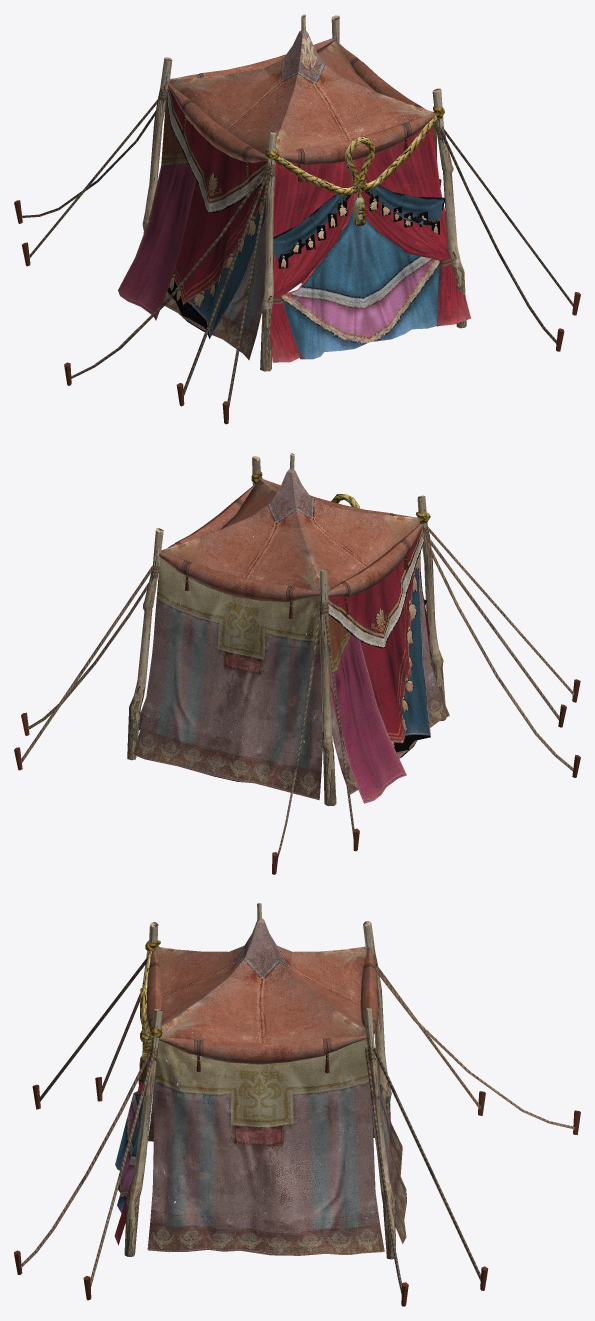
The model's file is Tent01.FBX.
The picture shows the model from 3 angles, top to bottom: view 1: azimuth 30°, elevation 25°; view 2: azimuth 150°, elevation 25°; view 3: azimuth 270°, elevation 25°; orthographic projection. The views are drawn at different scales.
Parts seen in each view (by area): view 1: LV_Spechia_LemiForest_DaidangsMidTent01_SM_SVR; view 2: LV_Spechia_LemiForest_DaidangsMidTent01_SM_SVR; view 3: LV_Spechia_LemiForest_DaidangsMidTent01_SM_SVR.
Boxes of the visible parts, box(x1,y1,x2,y2) form: LV_Spechia_LemiForest_DaidangsMidTent01_SM_SVR: box(14, 14, 580, 424); LV_Spechia_LemiForest_DaidangsMidTent01_SM_SVR: box(14, 453, 580, 874); LV_Spechia_LemiForest_DaidangsMidTent01_SM_SVR: box(14, 903, 580, 1306).
Bounding box in the file's own units: 186 × 109 × 184.
